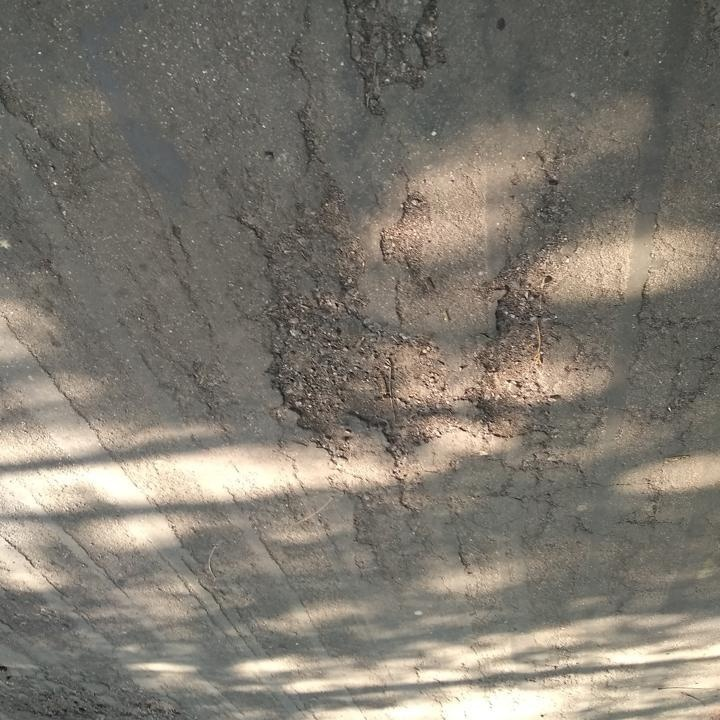pothole: (263, 295, 464, 463), (475, 267, 561, 442)
